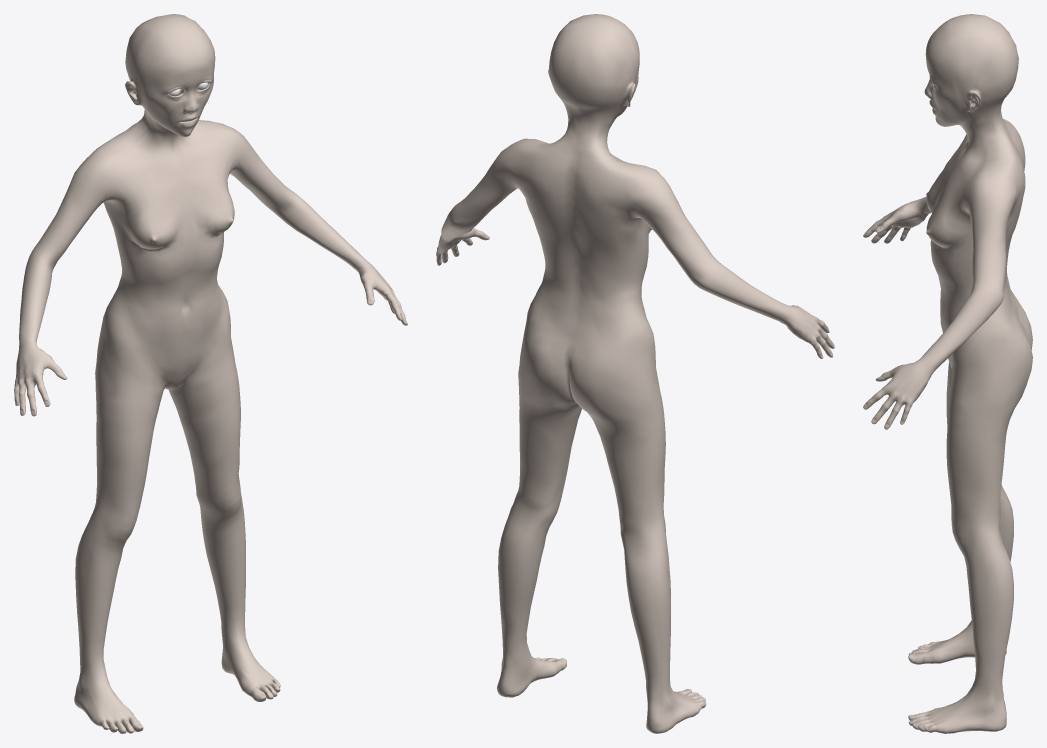
File: personagem_humano_anime.glb
3 views of the same model, side by side, from view 1: azimuth 30°, elevation 25°; view 2: azimuth 150°, elevation 25°; view 3: azimuth 270°, elevation 25° (orthographic).
Parts seen in each view (by area): view 1: HumanBody; view 2: HumanBody; view 3: HumanBody.
Boxes of the visible parts, x1,y1,x2,y2 form: HumanBody: [14, 14, 407, 733]; HumanBody: [436, 14, 834, 733]; HumanBody: [863, 14, 1032, 733].
Bounding box in the file's own units: 0.9497 × 1.6 × 0.3639.
